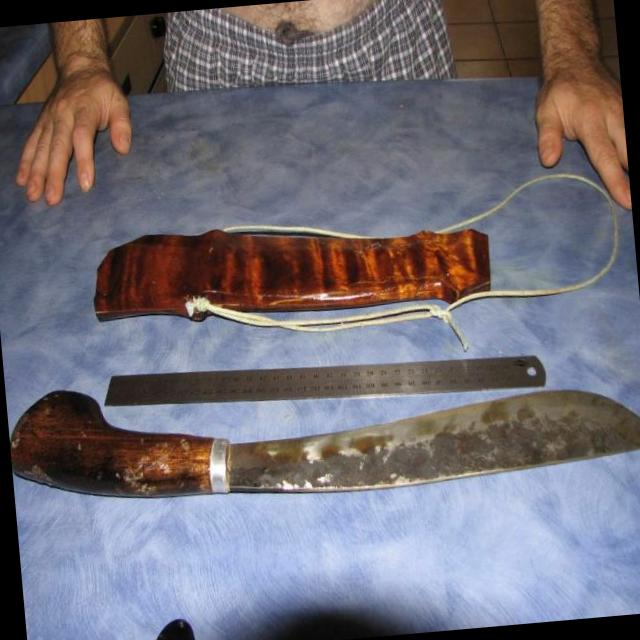Knife: (9, 390, 640, 497)
